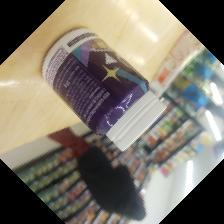Xylitol_BTS: (40, 28, 167, 152)
